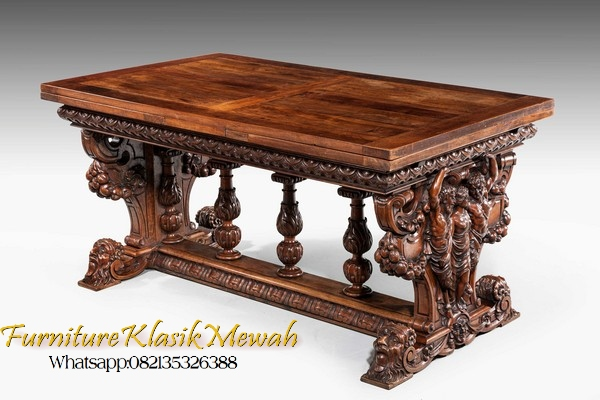Carving Table: (39, 49, 547, 382)
